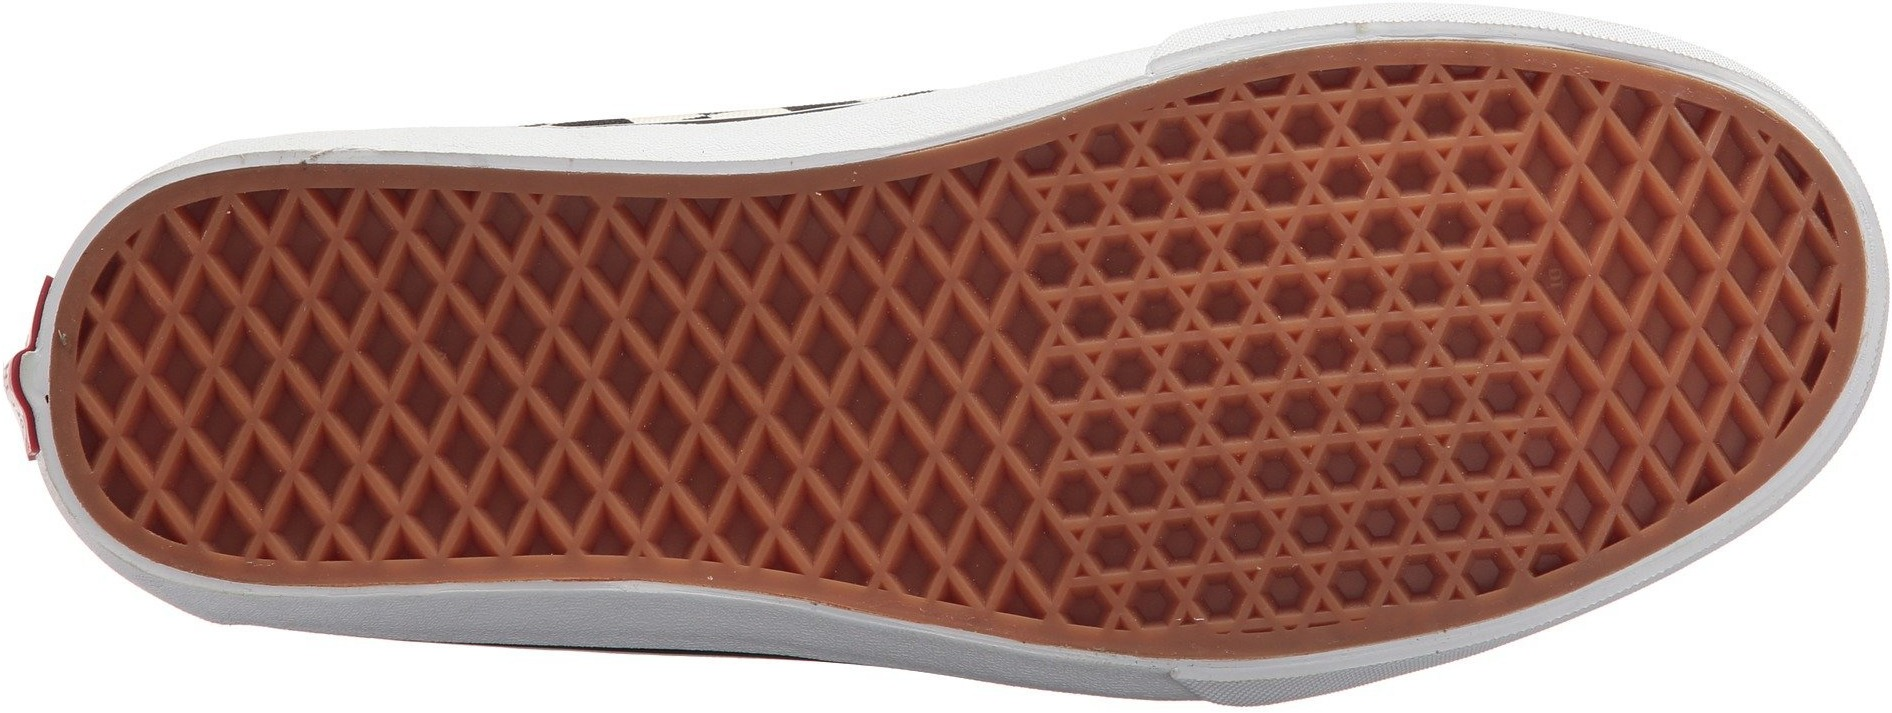polygon: (1036, 136, 1285, 404), (1287, 339, 1551, 575), (1280, 82, 1541, 315), (1062, 415, 1275, 616)
quad: (442, 185, 806, 544), (103, 255, 434, 540), (1552, 147, 1776, 411), (814, 183, 1036, 413), (819, 422, 975, 581)
triangle: (1036, 136, 1285, 404), (1287, 339, 1551, 575), (1280, 82, 1541, 315), (1062, 415, 1275, 616)
